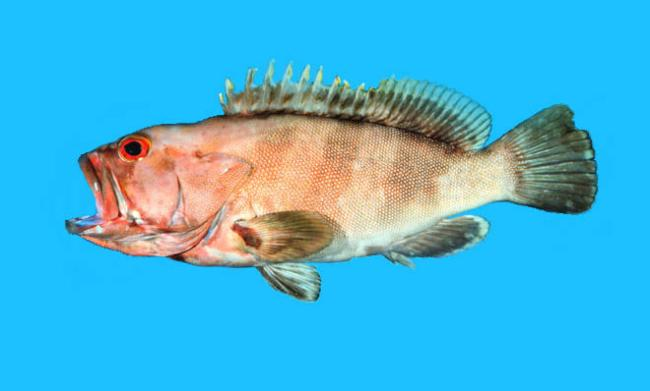fish: (63, 57, 600, 303)
